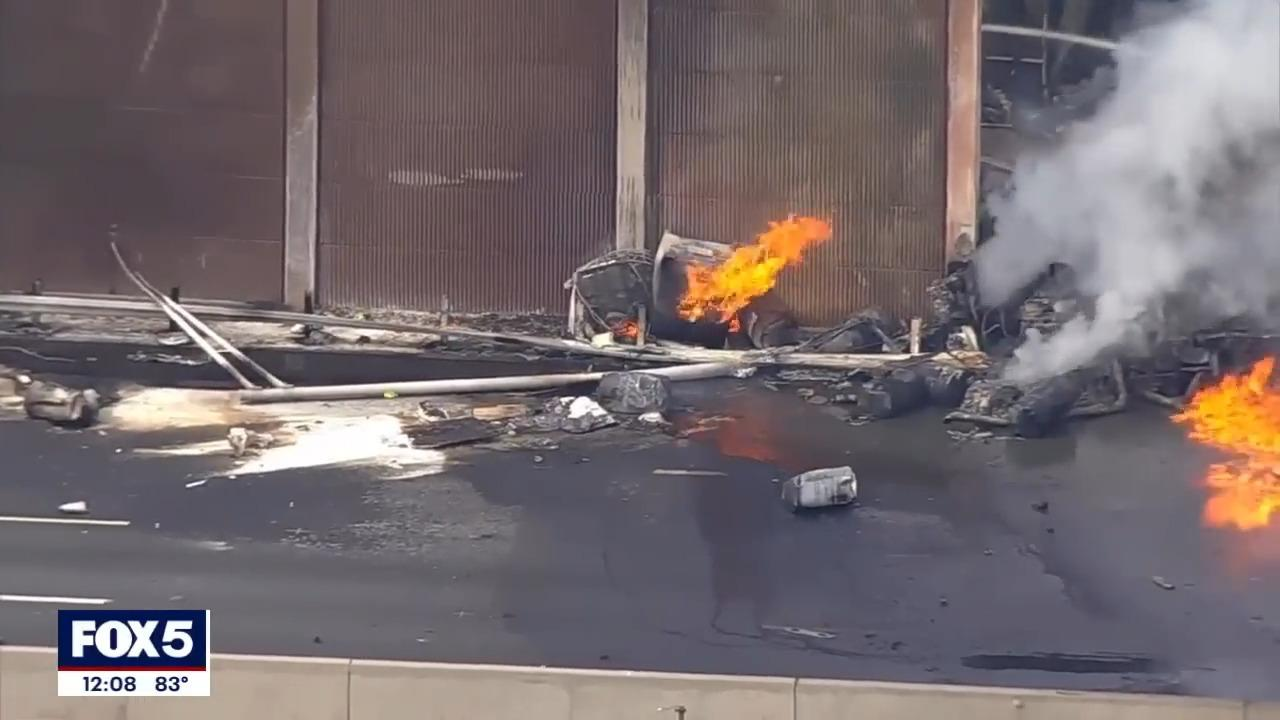fire: (1173, 352, 1279, 525), (678, 214, 829, 331)
